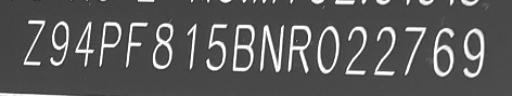letter: (370, 22, 400, 78), (256, 19, 286, 72), (402, 24, 430, 78), (461, 24, 487, 78), (286, 22, 314, 72), (314, 23, 342, 73), (431, 24, 457, 77), (96, 20, 124, 69), (203, 20, 229, 72), (20, 16, 46, 67), (230, 21, 256, 72), (343, 24, 369, 74), (150, 19, 174, 73), (123, 21, 149, 70), (49, 19, 71, 67), (74, 18, 94, 69), (184, 21, 198, 73)
